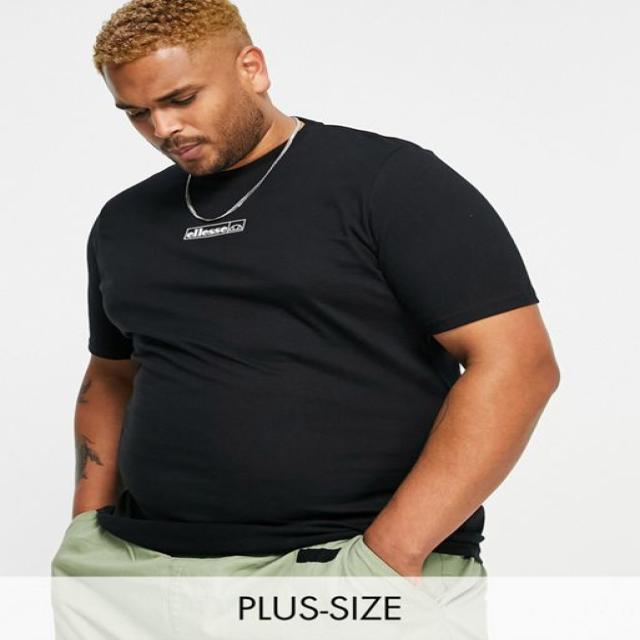tshirt: (82, 117, 536, 557)
